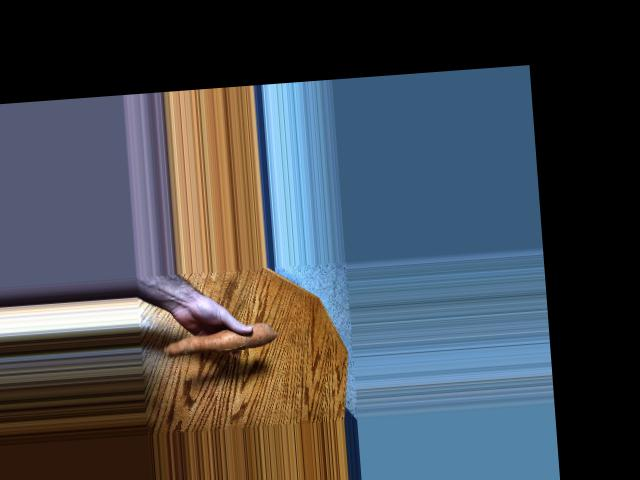sweet_potato: (158, 326, 275, 360)
